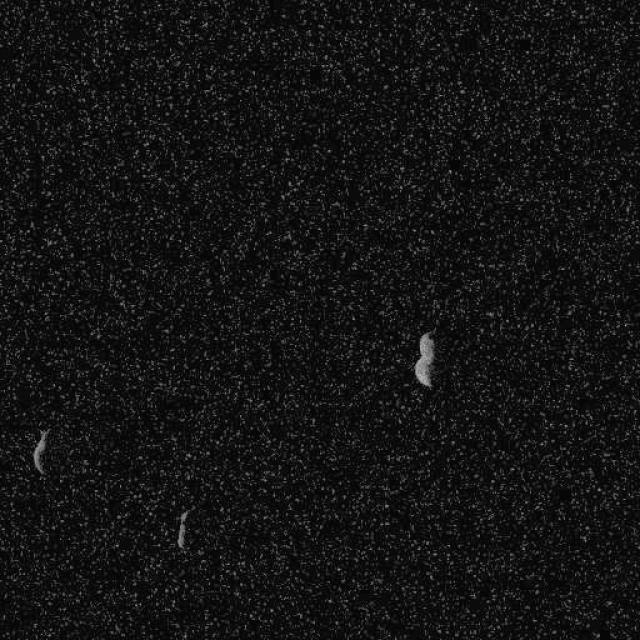D2: (413, 330, 435, 388), (31, 427, 50, 475), (175, 508, 190, 548)
